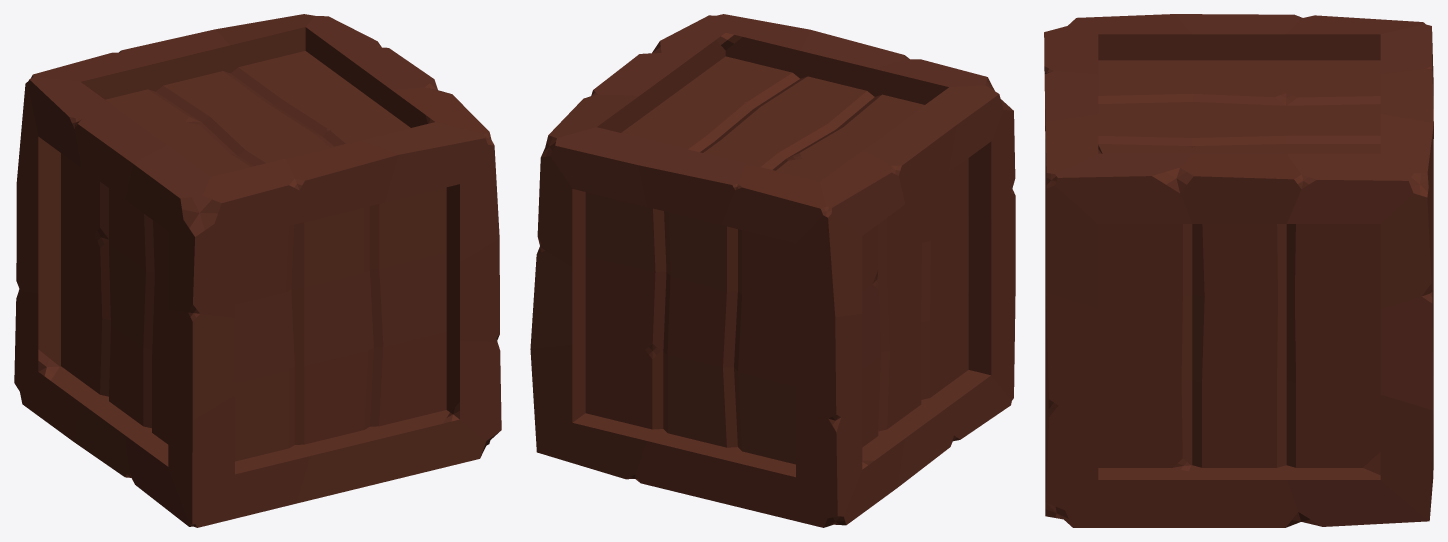
The model's file is Dungeonfıçı.fbx.
3 renders of one model, left to right at view 1: azimuth 30°, elevation 25°; view 2: azimuth 150°, elevation 25°; view 3: azimuth 270°, elevation 25°, orthographic. The views are drawn at different scales.
Visible parts, largest first — view 1: Sandık; view 2: Sandık; view 3: Sandık.
Part boxes in pixels (x1,y1,x2,y2): Sandık: (14,14,501,527); Sandık: (530,14,1015,527); Sandık: (1044,14,1433,527).
Bounding box in the file's own units: 121 × 121 × 120.
